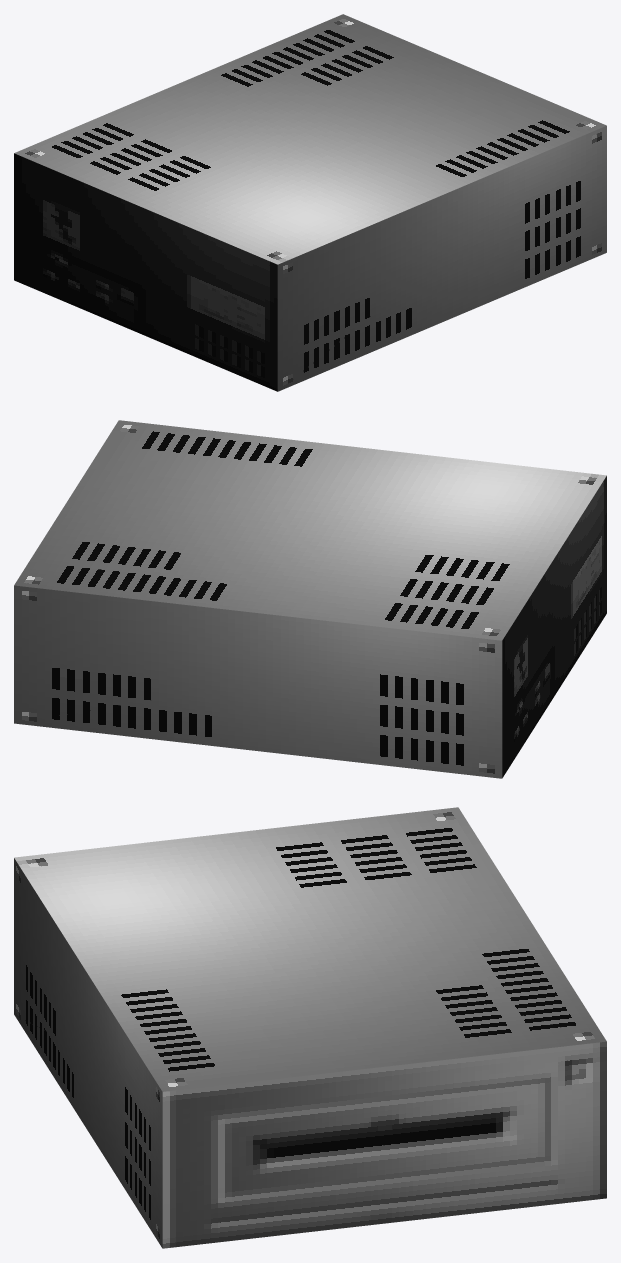
File: primary_176.glb
3 views of the same model, one above another, from view 1: azimuth 30°, elevation 25°; view 2: azimuth 150°, elevation 25°; view 3: azimuth 270°, elevation 25° (orthographic). The views are drawn at different scales.
Parts seen in each view (by area): view 1: Object; view 2: Object; view 3: Object.
Part boxes in pixels (left/top/right/bottom): Object: left=14, top=14, right=606, bottom=391; Object: left=14, top=420, right=606, bottom=778; Object: left=14, top=807, right=606, bottom=1248.
Size of the model in its own units: 0.4646 by 0.1193 by 0.409.
Materials: 6 (6 with a texture image).
